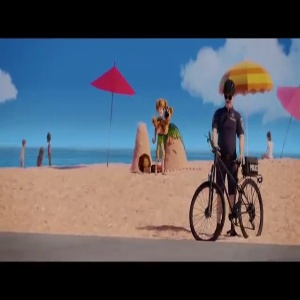Scooby: (165, 105, 176, 125)
Shagy: (156, 98, 164, 118)
